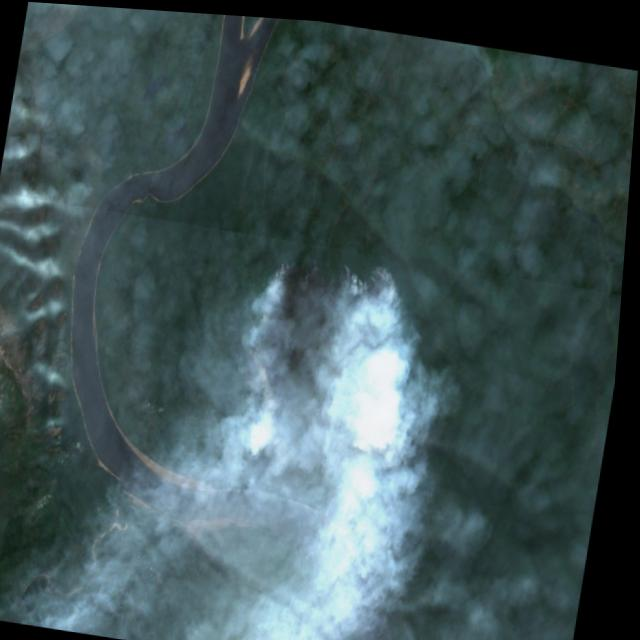fire: (336, 251, 405, 291), (271, 250, 306, 284)
